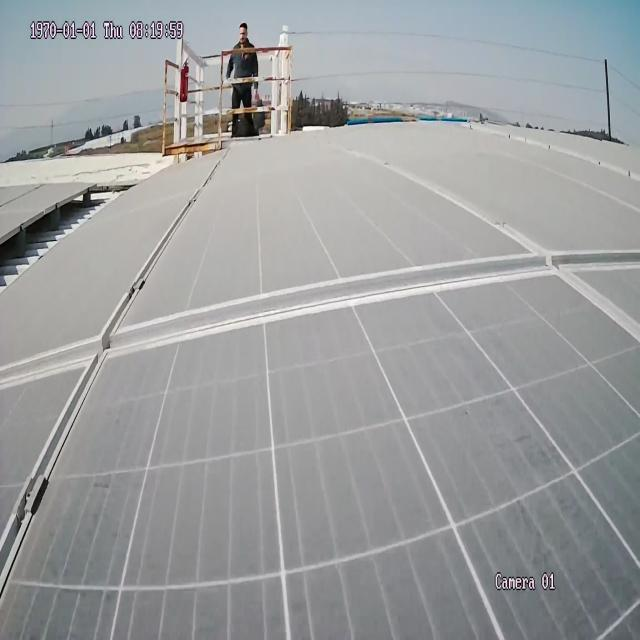interior panel: (0, 137, 640, 606)
outher panel: (0, 177, 148, 303)
